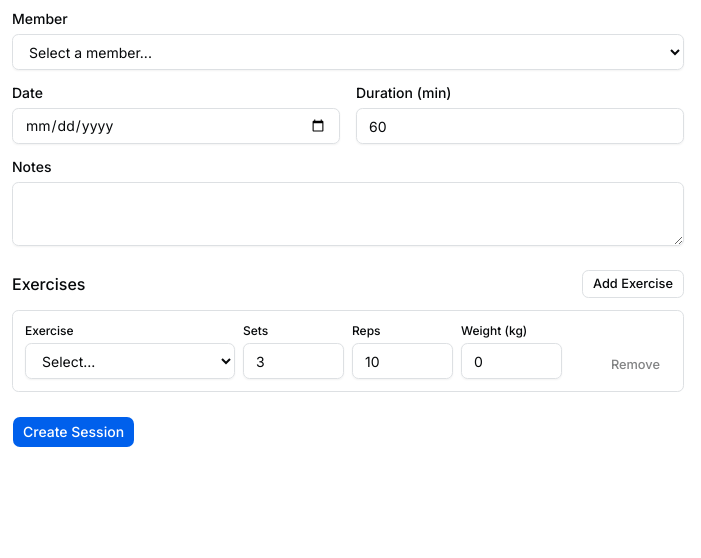
CreateWorkoutSessionForm › createWorkoutSessionForm_emptyMember_showsMemberValidationErrorAndDoesNotCallCreate
Type "2026-02-20" into the date field labelled "Date" at (176, 126), box [12,108,340,144]
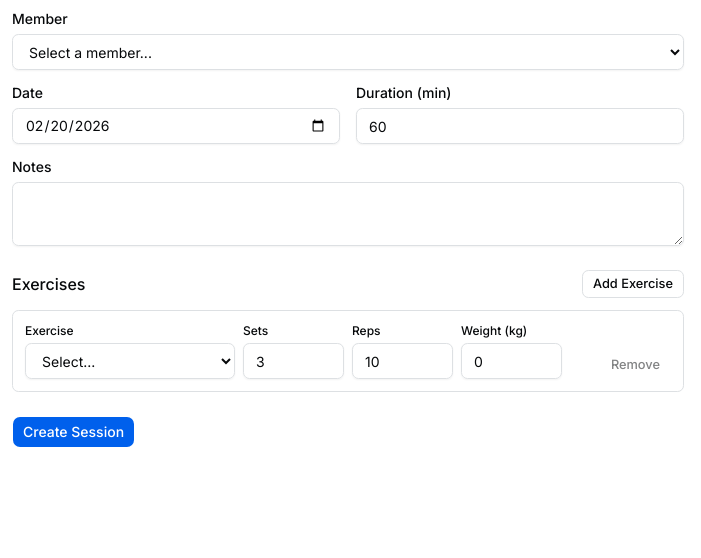
Click the button "Create Session" at (74, 432), box [12,416,135,448]
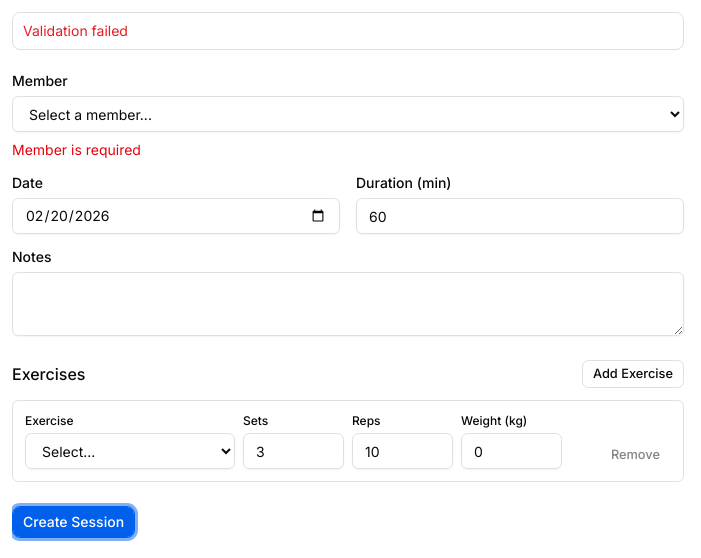
Check: the text "Validation failed" is shown, box [23,22,128,39]
Check: the text "Member is required" is shown, box [12,141,141,158]
